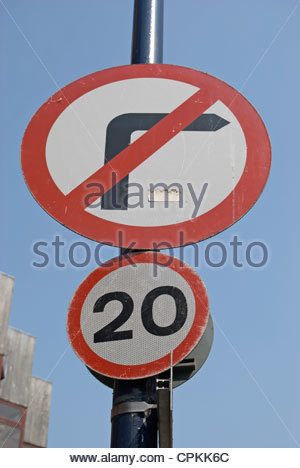No_right_turn: (21, 63, 272, 249)
